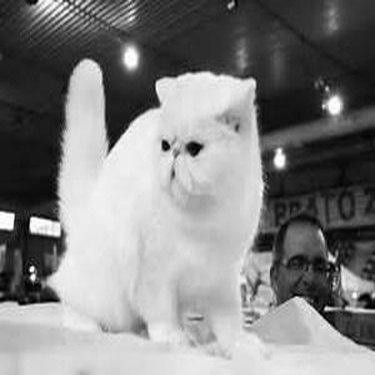cat: (48, 46, 261, 364)
